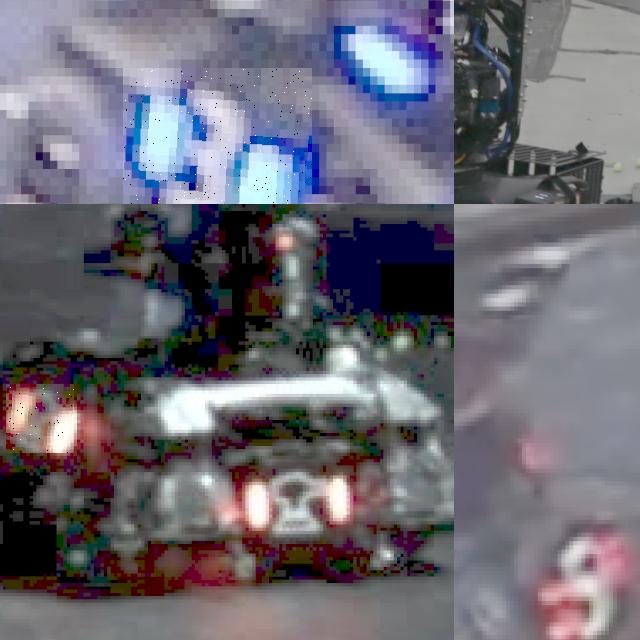B3: (123, 67, 312, 204)
R5: (545, 524, 624, 640)
Rs: (242, 482, 353, 528), (6, 384, 74, 453)
